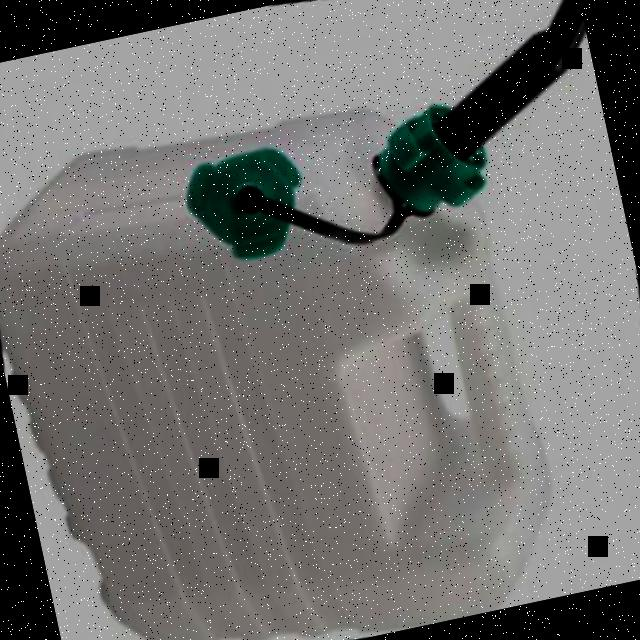chemical_plastic_gallon: (0, 24, 629, 640)
